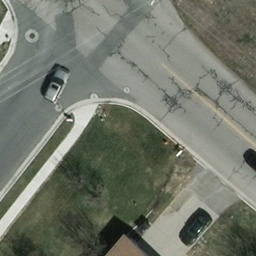car: (177, 209, 214, 248), (42, 68, 74, 106)
